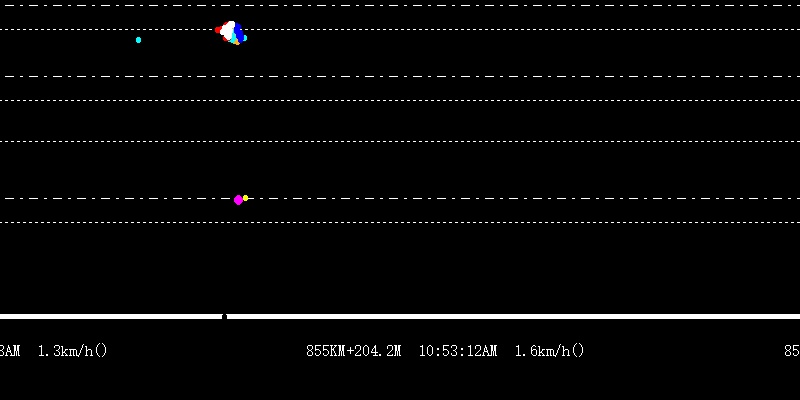face_2: (215, 19, 247, 46)
face_down: (131, 25, 141, 48)
